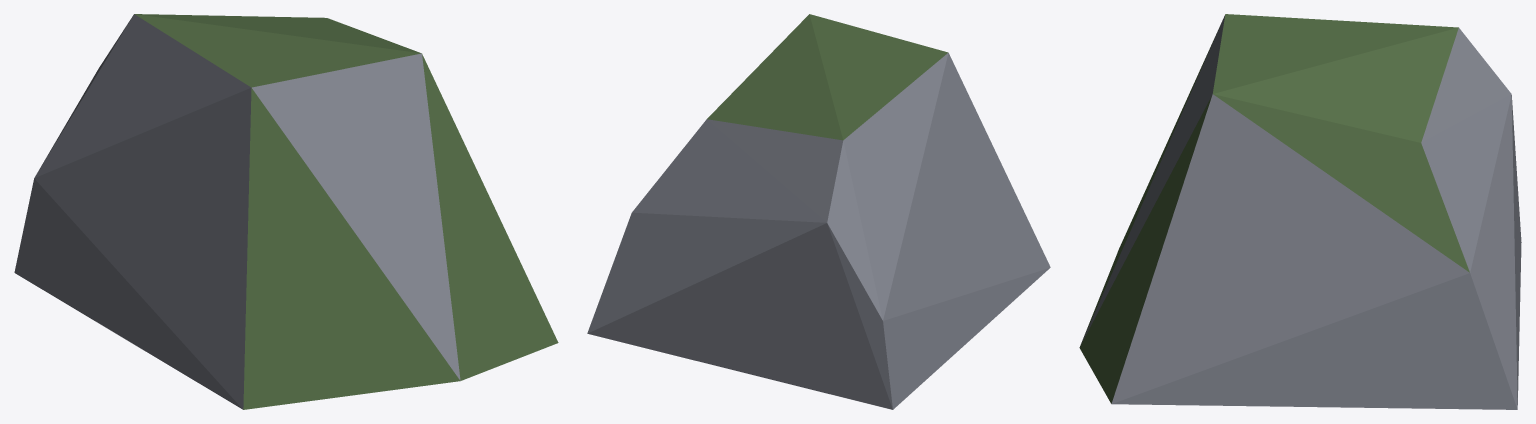
The model's file is Rock_Moss_3.lod4.glb.
3 renders of one model, left to right at view 1: azimuth 30°, elevation 25°; view 2: azimuth 150°, elevation 25°; view 3: azimuth 270°, elevation 25°, orthographic. The views are drawn at different scales.
Visible parts, largest first — view 1: Rock_Moss_3; view 2: Rock_Moss_3; view 3: Rock_Moss_3.
Part boxes in pixels (x1=…): Rock_Moss_3: x1=14, y1=14, x2=558, y2=409; Rock_Moss_3: x1=587, y1=14, x2=1050, y2=409; Rock_Moss_3: x1=1079, y1=14, x2=1521, y2=409.
Bounding box in the file's own units: 0.7265 × 0.5459 × 0.8093.
